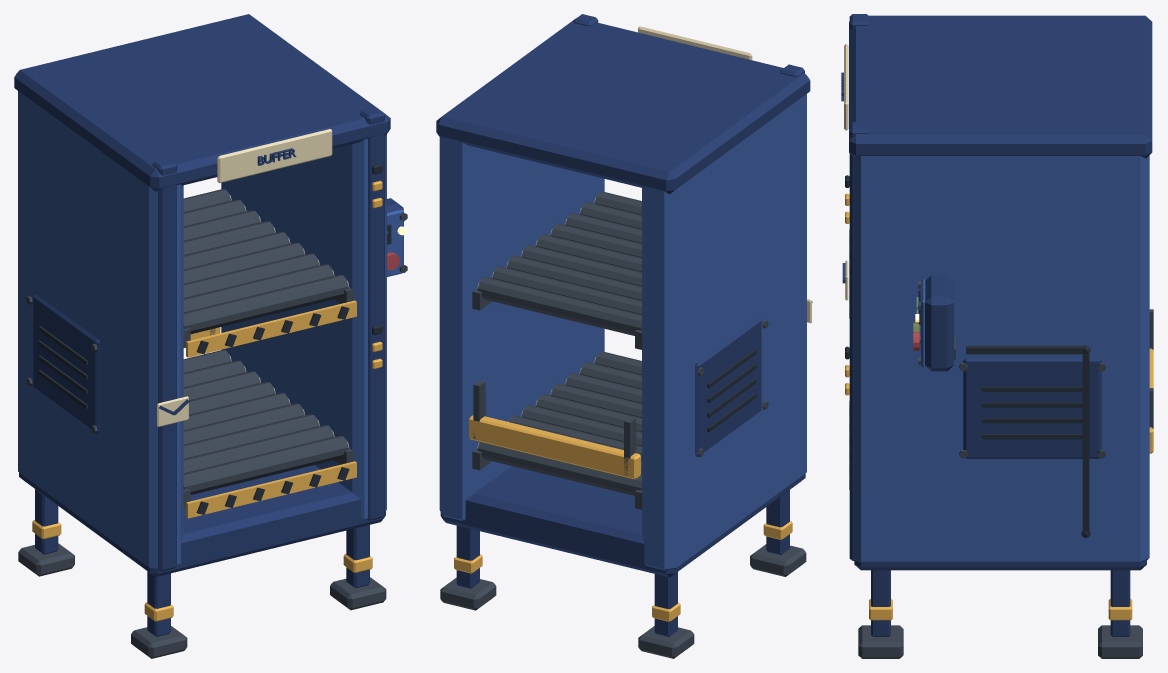
File: mach_buffer_cabinet.glb
3 renders of one model, left to right at view 1: azimuth 30°, elevation 25°; view 2: azimuth 150°, elevation 25°; view 3: azimuth 270°, elevation 25°, orthographic. The views are drawn at different scales.
Parts seen in each view (by area): view 1: mach_buffer_cabinet__cabinet_side_-1, mach_buffer_cabinet__cabinet_top, mach_buffer_cabinet, mach_buffer_cabinet__cabinet_base, mach_buffer_cabinet__cabinet_corner_-1, mach_buffer_cabinet__cabinet_service_cover_-1, mach_buffer_cabinet__buffer_roller_1_0_rubber, mach_buffer_cabinet__buffer_roller_0_0_rubber, mach_buffer_cabinet__buffer_sign_back, mach_buffer_cabinet__slot_warning_0_yellow, mach_buffer_cabinet__slot_warning_1_yellow, mach_buffer_cabinet__buffer_roller_0_1_rubber (+23 smaller); view 2: mach_buffer_cabinet__cabinet_side_-1, mach_buffer_cabinet__cabinet_top, mach_buffer_cabinet, mach_buffer_cabinet__cabinet_base, mach_buffer_cabinet__cabinet_service_cover_-1, mach_buffer_cabinet__buffer_release_bar, mach_buffer_cabinet__buffer_roller_1_8_rubber, mach_buffer_cabinet__buffer_roller_0_8_rubber, mach_buffer_cabinet__buffer_roller_1_7_rubber, mach_buffer_cabinet__buffer_roller_1_6_rubber, mach_buffer_cabinet__buffer_roller_1_5_rubber, mach_buffer_cabinet__buffer_roller_0_5_rubber (+19 smaller); view 3: mach_buffer_cabinet, mach_buffer_cabinet__cabinet_top, mach_buffer_cabinet__buffer_control_housing, mach_buffer_cabinet__cabinet_base, mach_buffer_cabinet__cabinet_foot_1_0_pad, mach_buffer_cabinet__cabinet_foot_1_1_pad, mach_buffer_cabinet__cabinet_foot_1_1_stem, mach_buffer_cabinet__cabinet_foot_1_0_stem.
Part boxes in pixels (bbox=[...]): mach_buffer_cabinet__cabinet_side_-1: bbox=[18, 91, 183, 568]; mach_buffer_cabinet__cabinet_top: bbox=[14, 14, 390, 191]; mach_buffer_cabinet: bbox=[26, 107, 407, 520]; mach_buffer_cabinet__cabinet_base: bbox=[19, 465, 385, 576]; mach_buffer_cabinet__cabinet_corner_-1: bbox=[152, 158, 177, 571]; mach_buffer_cabinet__cabinet_service_cover_-1: bbox=[33, 293, 99, 433]; mach_buffer_cabinet__buffer_roller_1_0_rubber: bbox=[183, 275, 348, 333]; mach_buffer_cabinet__buffer_roller_0_0_rubber: bbox=[183, 435, 348, 494]; mach_buffer_cabinet__buffer_sign_back: bbox=[217, 129, 332, 183]; mach_buffer_cabinet__slot_warning_0_yellow: bbox=[186, 461, 356, 518]; mach_buffer_cabinet__slot_warning_1_yellow: bbox=[186, 300, 356, 357]; mach_buffer_cabinet__buffer_roller_0_1_rubber: bbox=[183, 425, 333, 473]; mach_buffer_cabinet__cabinet_side_-1: bbox=[642, 94, 806, 570]; mach_buffer_cabinet__cabinet_top: bbox=[436, 18, 810, 194]; mach_buffer_cabinet: bbox=[439, 14, 768, 520]; mach_buffer_cabinet__cabinet_base: bbox=[440, 466, 805, 577]; mach_buffer_cabinet__cabinet_service_cover_-1: bbox=[695, 317, 761, 456]; mach_buffer_cabinet__buffer_release_bar: bbox=[469, 415, 640, 479]; mach_buffer_cabinet__buffer_roller_1_8_rubber: bbox=[477, 277, 641, 335]; mach_buffer_cabinet__buffer_roller_0_8_rubber: bbox=[477, 442, 641, 495]; mach_buffer_cabinet__buffer_roller_1_7_rubber: bbox=[492, 266, 641, 314]; mach_buffer_cabinet__buffer_roller_1_6_rubber: bbox=[507, 255, 641, 300]; mach_buffer_cabinet__buffer_roller_1_5_rubber: bbox=[521, 245, 641, 286]; mach_buffer_cabinet__buffer_roller_0_5_rubber: bbox=[521, 405, 641, 446]; mach_buffer_cabinet: bbox=[845, 122, 1149, 562]; mach_buffer_cabinet__cabinet_top: bbox=[849, 15, 1152, 158]; mach_buffer_cabinet__buffer_control_housing: bbox=[925, 275, 953, 371]; mach_buffer_cabinet__cabinet_base: bbox=[854, 559, 1146, 570]; mach_buffer_cabinet__cabinet_foot_1_0_pad: bbox=[858, 625, 903, 658]; mach_buffer_cabinet__cabinet_foot_1_1_pad: bbox=[1098, 625, 1142, 658]; mach_buffer_cabinet__cabinet_foot_1_1_stem: bbox=[1110, 570, 1130, 636]; mach_buffer_cabinet__cabinet_foot_1_0_stem: bbox=[871, 570, 890, 636].
Size of the model in its own units: 1.37 by 2.18 by 1.17.
